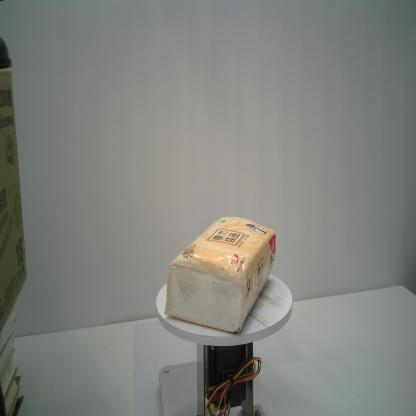Tissue: (163, 214, 277, 336)
